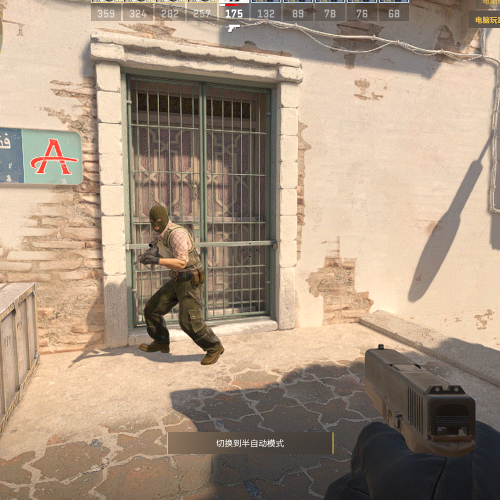t_body: (142, 205, 225, 364)
t_head: (149, 205, 168, 232)
